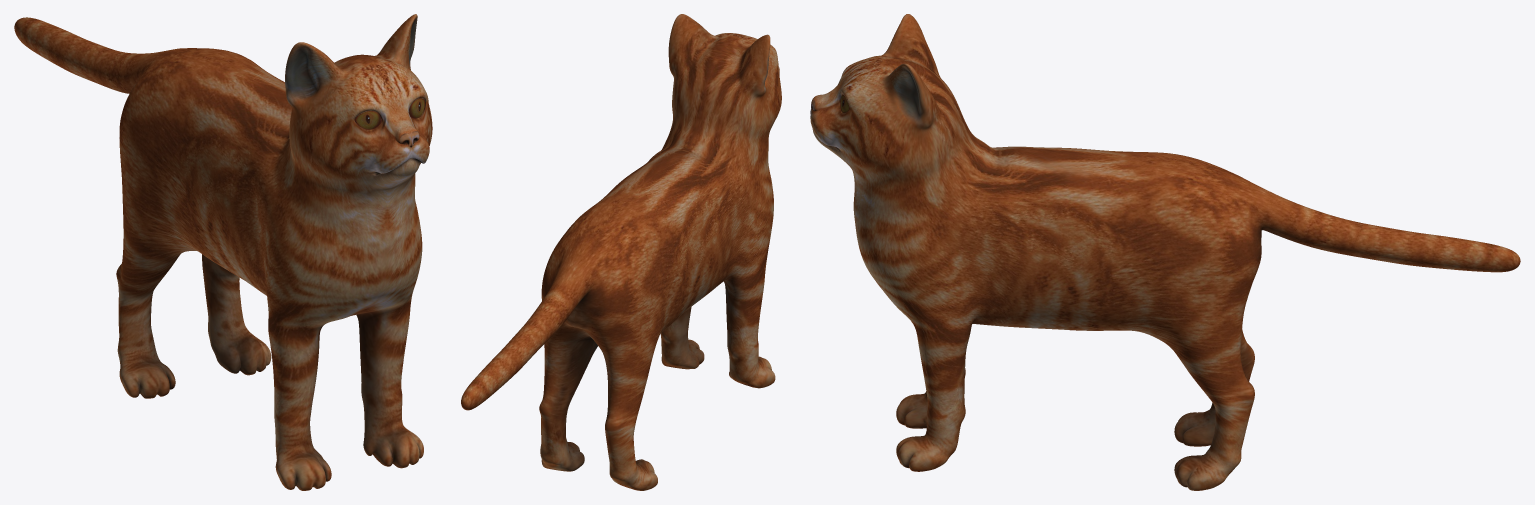
Rendered from gfg_gold_text_stand_22g.glb.
The picture shows the model from 3 angles, left to right: view 1: azimuth 30°, elevation 25°; view 2: azimuth 150°, elevation 25°; view 3: azimuth 270°, elevation 25°; orthographic projection. The views are drawn at different scales.
Visible parts, largest first — view 1: 12221_Cat_v1_l3; view 2: 12221_Cat_v1_l3; view 3: 12221_Cat_v1_l3.
Part boxes in pixels (x1,y1,x2,y2): 12221_Cat_v1_l3: (14,14,432,490); 12221_Cat_v1_l3: (461,14,781,490); 12221_Cat_v1_l3: (810,14,1520,490).
Size of the model in its own units: 12.56 by 39.47 by 60.03.
Materials: 1 (1 with a texture image).
